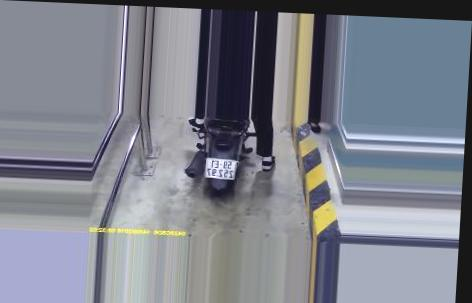License_Plate: (201, 156, 239, 182)
